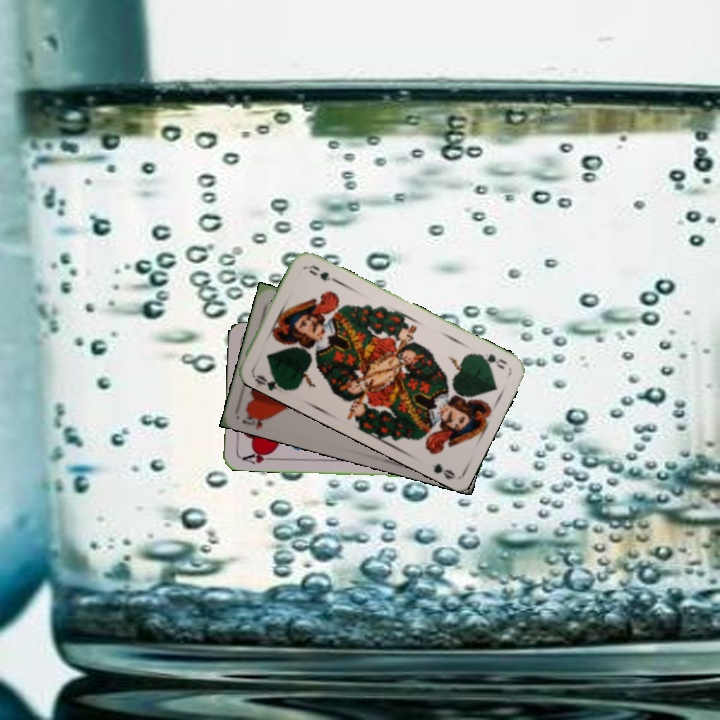GO: (249, 370, 288, 393), (472, 349, 509, 372)
HA: (236, 447, 277, 467)
HO: (238, 407, 275, 431)
